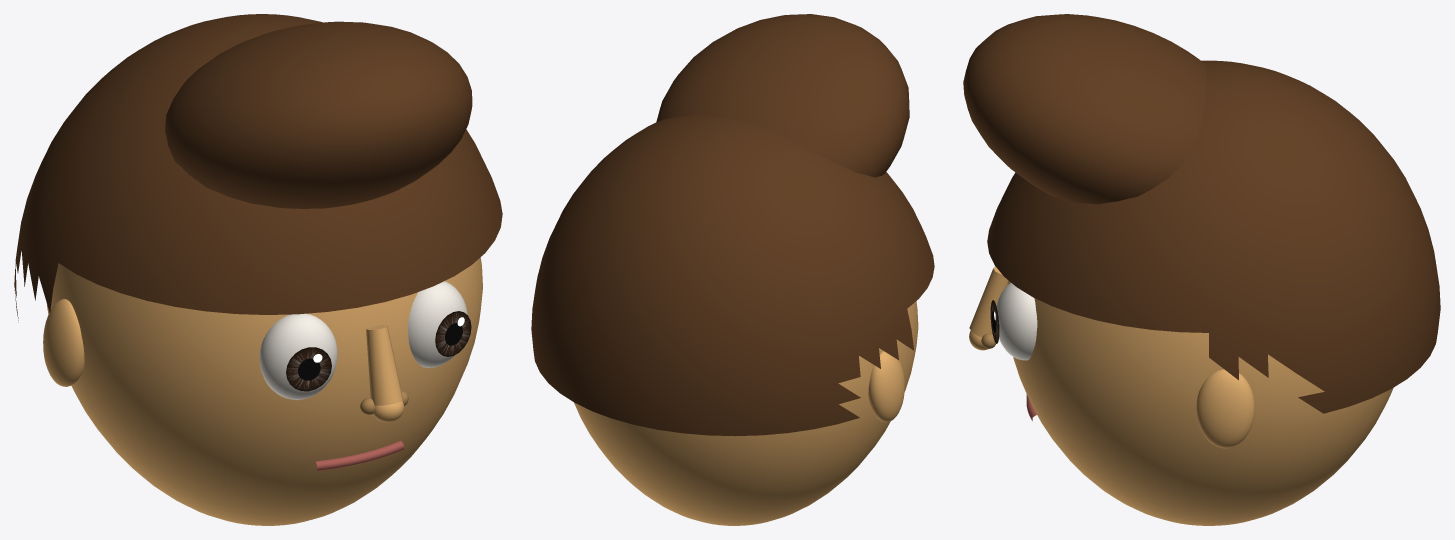
File: homme-06-meche.glb
3 renders of one model, left to right at view 1: azimuth 30°, elevation 25°; view 2: azimuth 150°, elevation 25°; view 3: azimuth 270°, elevation 25°, orthographic. The views are drawn at different scales.
Bounding box in the file's own units: 0.3205 × 0.3783 × 0.3408.
Materials: 10 (1 with a texture image).
